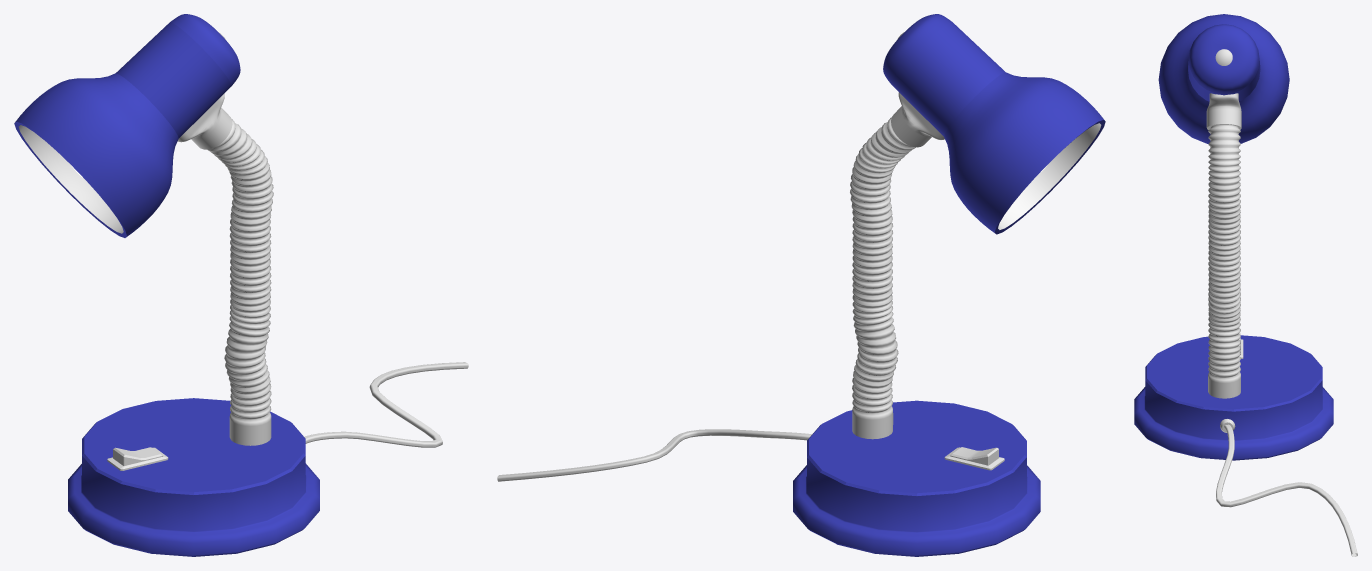
File: Table lamp.FBX
3 renders of one model, left to right at view 1: azimuth 30°, elevation 25°; view 2: azimuth 150°, elevation 25°; view 3: azimuth 270°, elevation 25°, orthographic. The views are drawn at different scales.
Visible parts, largest first — view 1: Table lamp04, Table lamp01, Table lamp06, Table lamp08, Table lamp03, Table lamp05; view 2: Table lamp04, Table lamp01, Table lamp06, Table lamp08, Table lamp03, Table lamp05; view 3: Table lamp04, Table lamp01, Table lamp06, Table lamp08, Table lamp03.
Boxes of the visible parts, x1,y1,x2,y2 form: Table lamp04: (68,398,319,556); Table lamp01: (14,14,240,237); Table lamp06: (207,119,273,445); Table lamp08: (304,362,468,447); Table lamp03: (177,93,232,149); Table lamp05: (107,447,168,470); Table lamp04: (793,400,1040,556); Table lamp01: (883,14,1105,234); Table lamp06: (850,117,915,439); Table lamp08: (497,429,811,481); Table lamp03: (891,92,944,147); Table lamp05: (944,447,1004,470); Table lamp04: (1134,335,1333,460); Table lamp01: (1158,14,1289,144); Table lamp06: (1208,124,1240,398); Table lamp08: (1216,424,1357,556); Table lamp03: (1206,93,1241,130).
Size of the model in its own units: 993 by 910 by 468.
